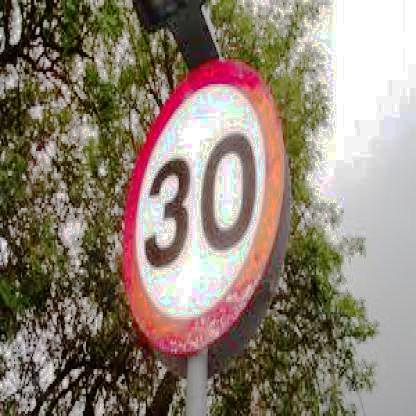Speed Limit -30-: (122, 55, 287, 352)
